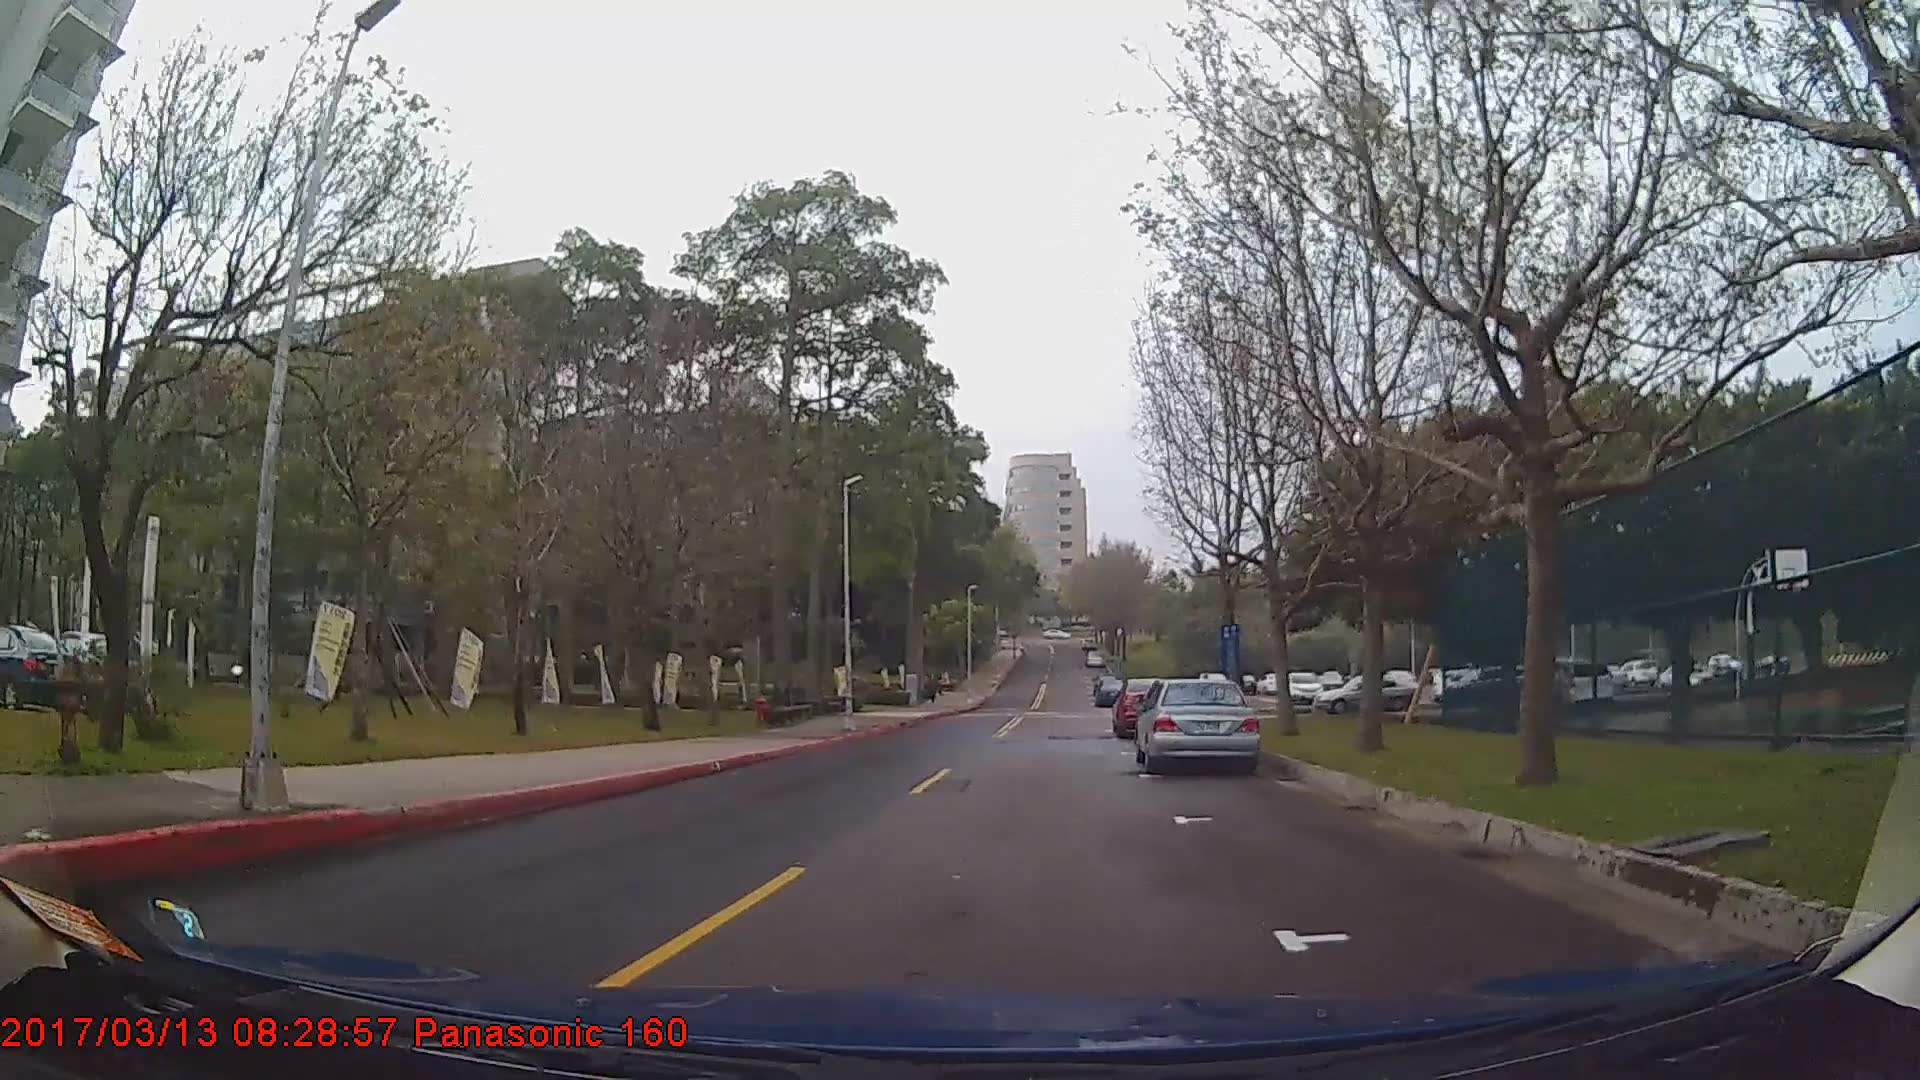vehicle: (1133, 675, 1259, 777), (0, 622, 78, 709), (1309, 670, 1420, 716), (1110, 676, 1178, 741), (1093, 676, 1129, 705)
